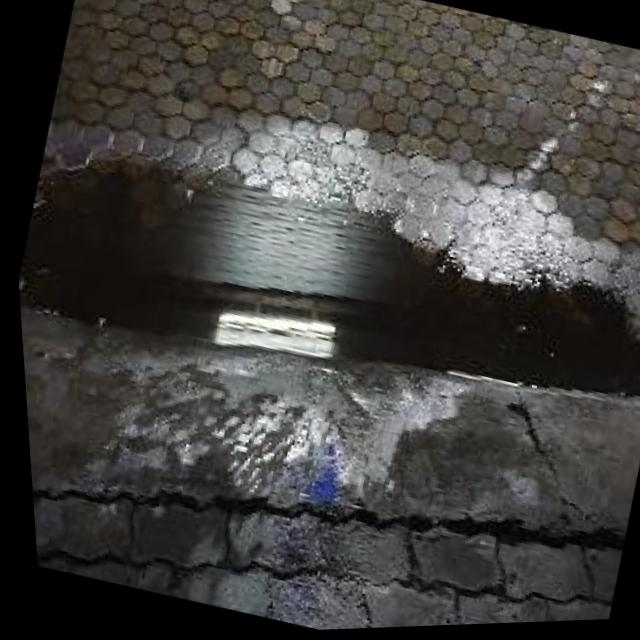puddle: (10, 146, 640, 402)
